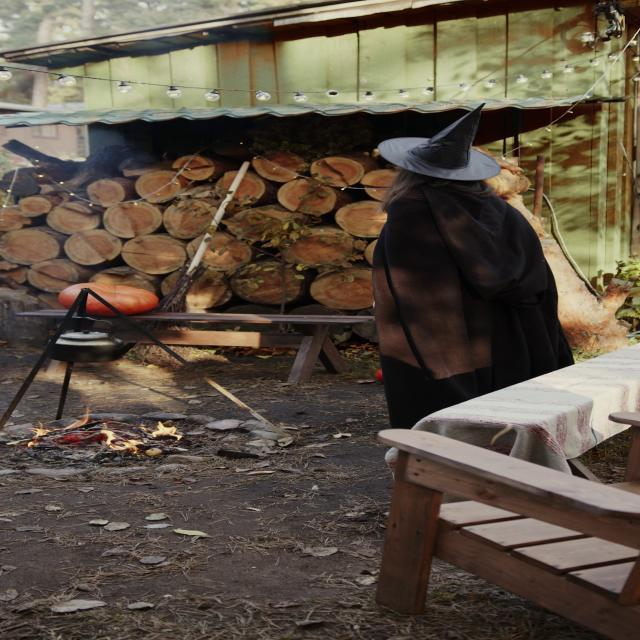Fire: (29, 409, 192, 454)
